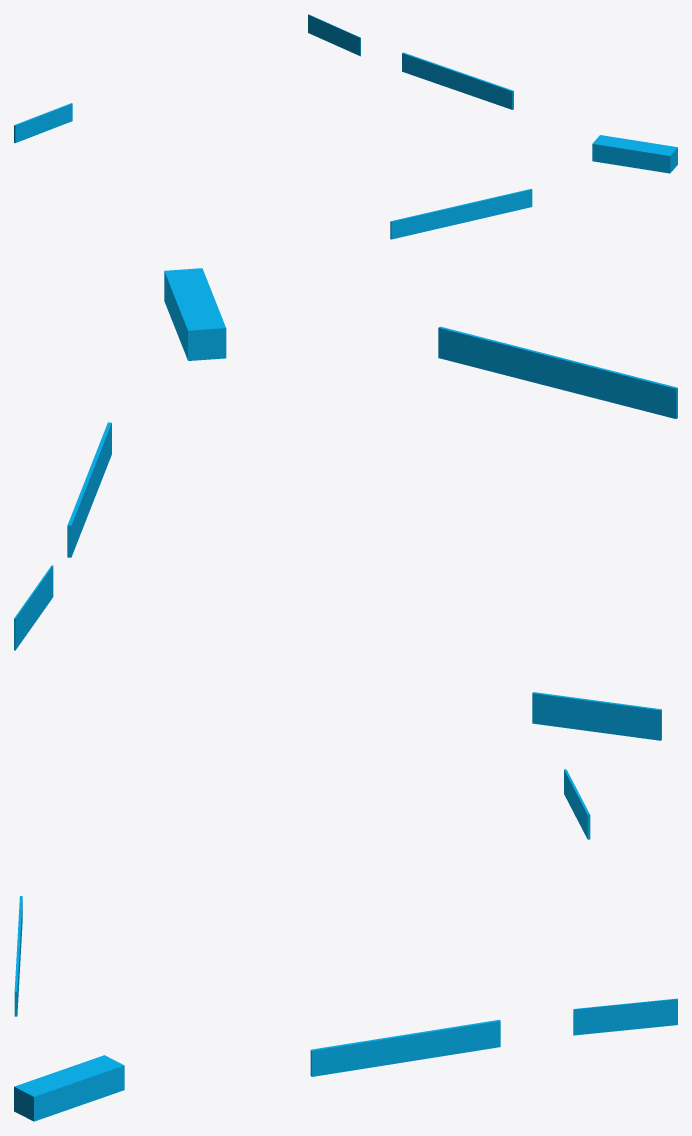
The model's file is VentSails_Col.fbx.
3 renders of one model, top to bottom at view 1: azimuth 30°, elevation 25°; view 2: azimuth 150°, elevation 25°; view 3: azimuth 270°, elevation 25°, orthographic. The views are drawn at different scales.
Parts seen in each view (by area): view 1: UBX_Vent_sails_grp04, UBX_Vent_sails_grp05, UBX_Vent_sails_grp01, UBX_Vent_sails_grp03, UBX_Vent_sails_grp02; view 2: UBX_Vent_sails_grp04, UBX_Vent_sails_grp05, UBX_Vent_sails_grp03, UBX_Vent_sails_grp01, UBX_Vent_sails_grp02; view 3: UBX_Vent_sails_grp01, UBX_Vent_sails_grp05, UBX_Vent_sails_grp02, UBX_Vent_sails_grp03, UBX_Vent_sails_grp04.
Boxes of the visible parts, x1=… form: UBX_Vent_sails_grp04: x1=390, y1=188, x2=532, y2=239; UBX_Vent_sails_grp05: x1=592, y1=135, x2=677, y2=173; UBX_Vent_sails_grp01: x1=402, y1=52, x2=513, y2=109; UBX_Vent_sails_grp03: x1=14, y1=103, x2=72, y2=143; UBX_Vent_sails_grp02: x1=308, y1=14, x2=360, y2=56; UBX_Vent_sails_grp04: x1=438, y1=326, x2=677, y2=418; UBX_Vent_sails_grp05: x1=164, y1=268, x2=226, y2=360; UBX_Vent_sails_grp03: x1=532, y1=692, x2=661, y2=740; UBX_Vent_sails_grp01: x1=67, y1=422, x2=111, y2=557; UBX_Vent_sails_grp02: x1=14, y1=565, x2=53, y2=650; UBX_Vent_sails_grp01: x1=310, y1=1019, x2=500, y2=1076; UBX_Vent_sails_grp05: x1=14, y1=1055, x2=124, y2=1121; UBX_Vent_sails_grp02: x1=573, y1=998, x2=677, y2=1035; UBX_Vent_sails_grp03: x1=564, y1=769, x2=590, y2=839; UBX_Vent_sails_grp04: x1=14, y1=896, x2=22, y2=1016.
Bounding box in the file's own units: 3248 × 120 × 2781.
